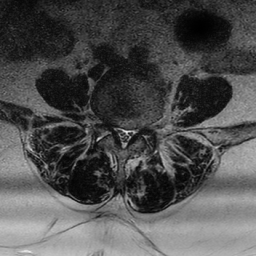CCS_normal: (120, 122, 128, 153)
LFS_severe_stenosis: (136, 120, 143, 137)
LLS_stenosis: (128, 121, 136, 147)
RFS_severe_stenosis: (106, 117, 113, 138)
RLS_stenosis: (113, 120, 120, 144)
